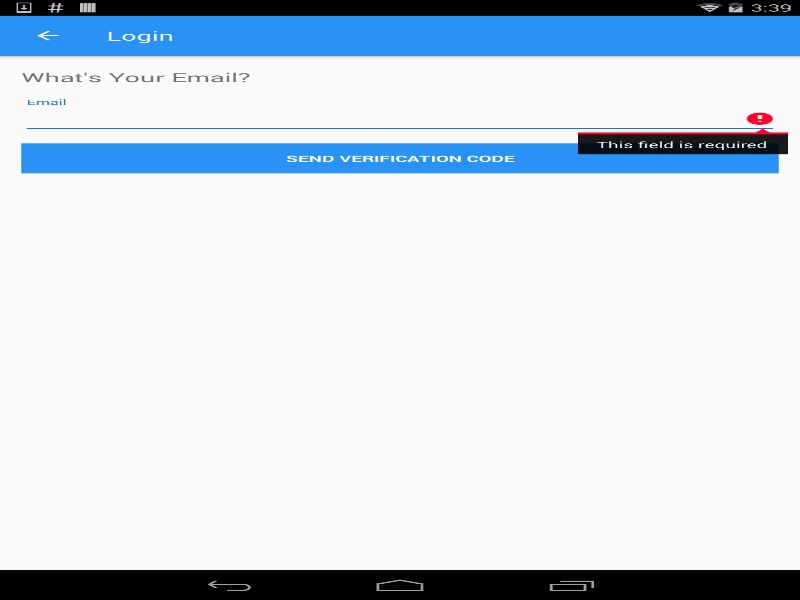Button: (21, 143, 778, 173), (10, 15, 85, 55)
Input: (21, 105, 778, 133)
